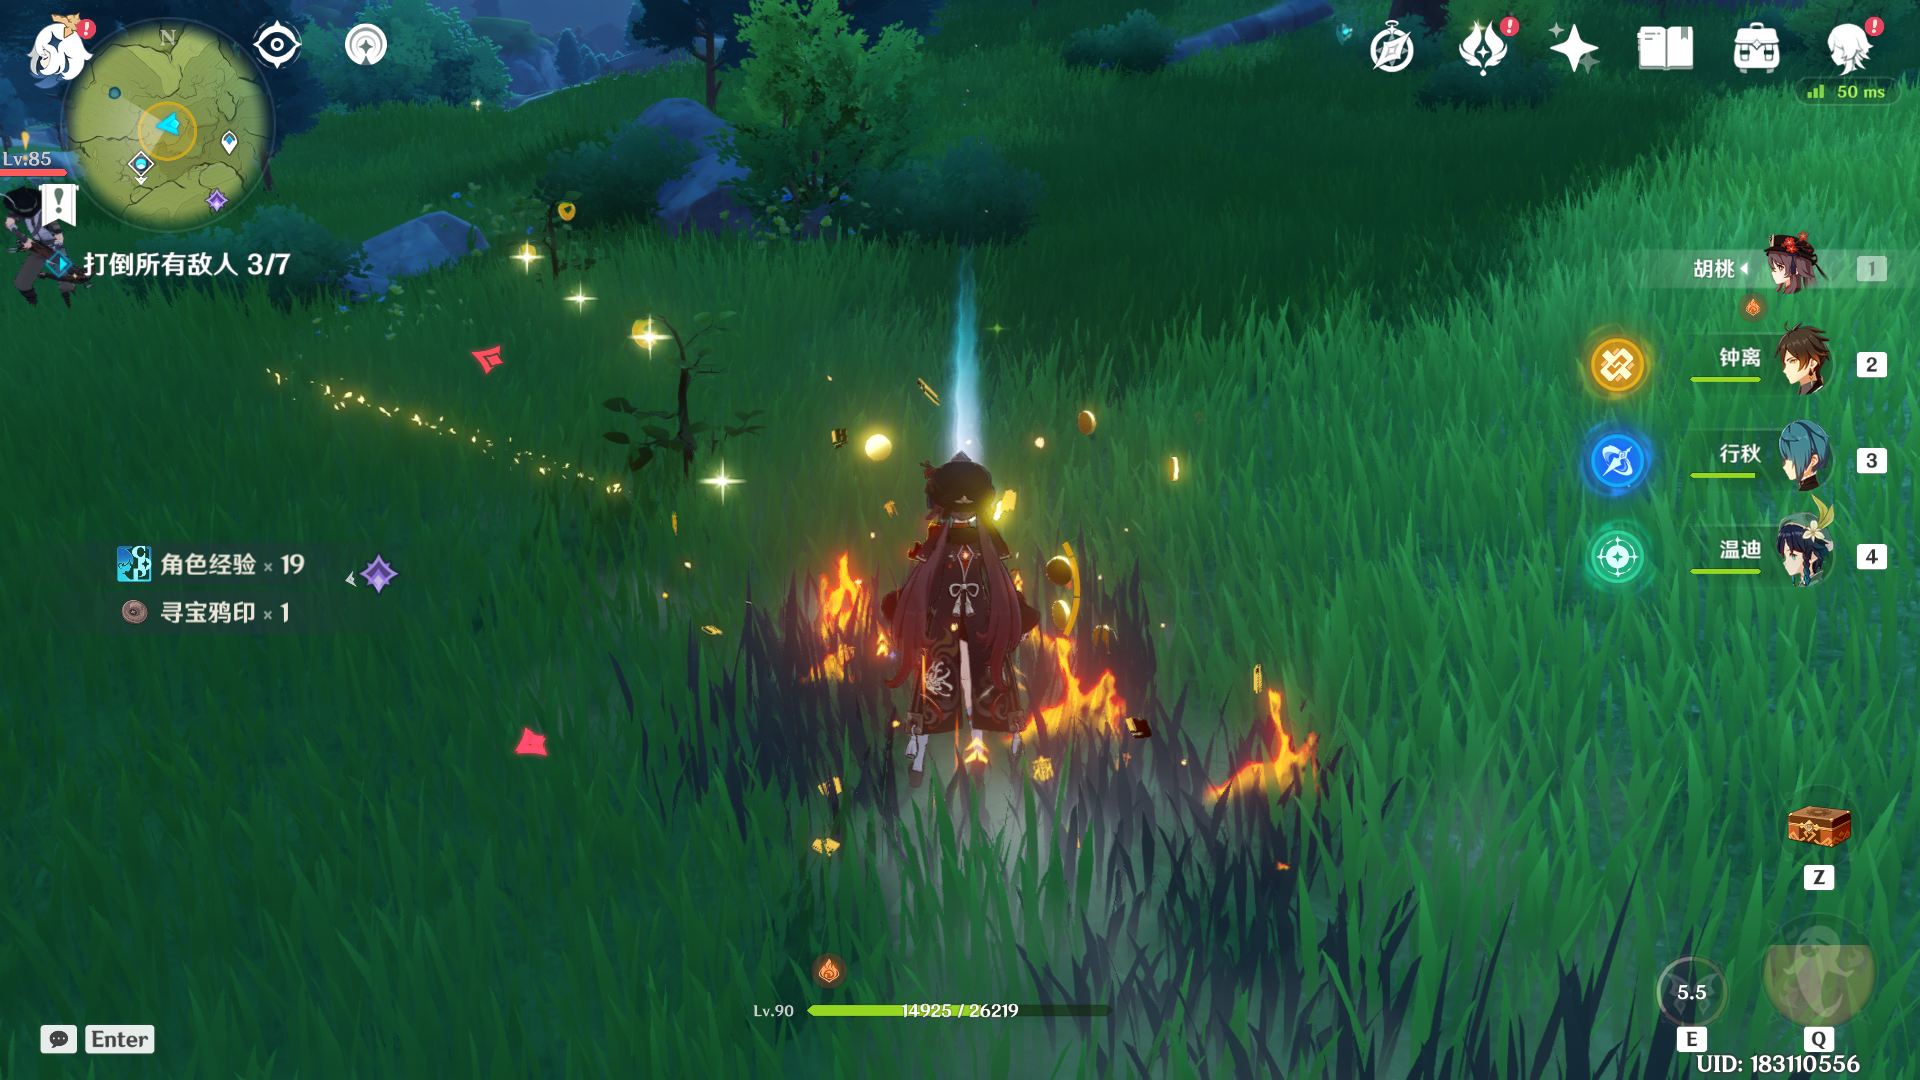character: (840, 440, 1093, 778)
